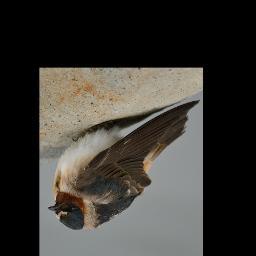Swallow: (47, 99, 201, 231)
